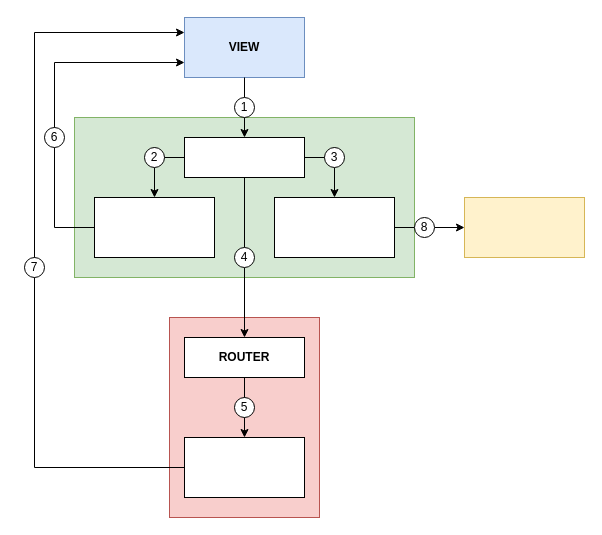
Image size: 602x535. Some labels were removed from this diagram. The shapes that lost their labels are listed below. From the top down, each one's box as (x1, y1, x2, y2) in pixels, then its label:
(184, 136, 304, 178): INTERACTOR
(94, 196, 214, 258): StateContainer
(274, 196, 394, 258): PublihserContainer
(464, 196, 584, 258): RIB PARENT
(184, 436, 304, 498): ViewContainer
